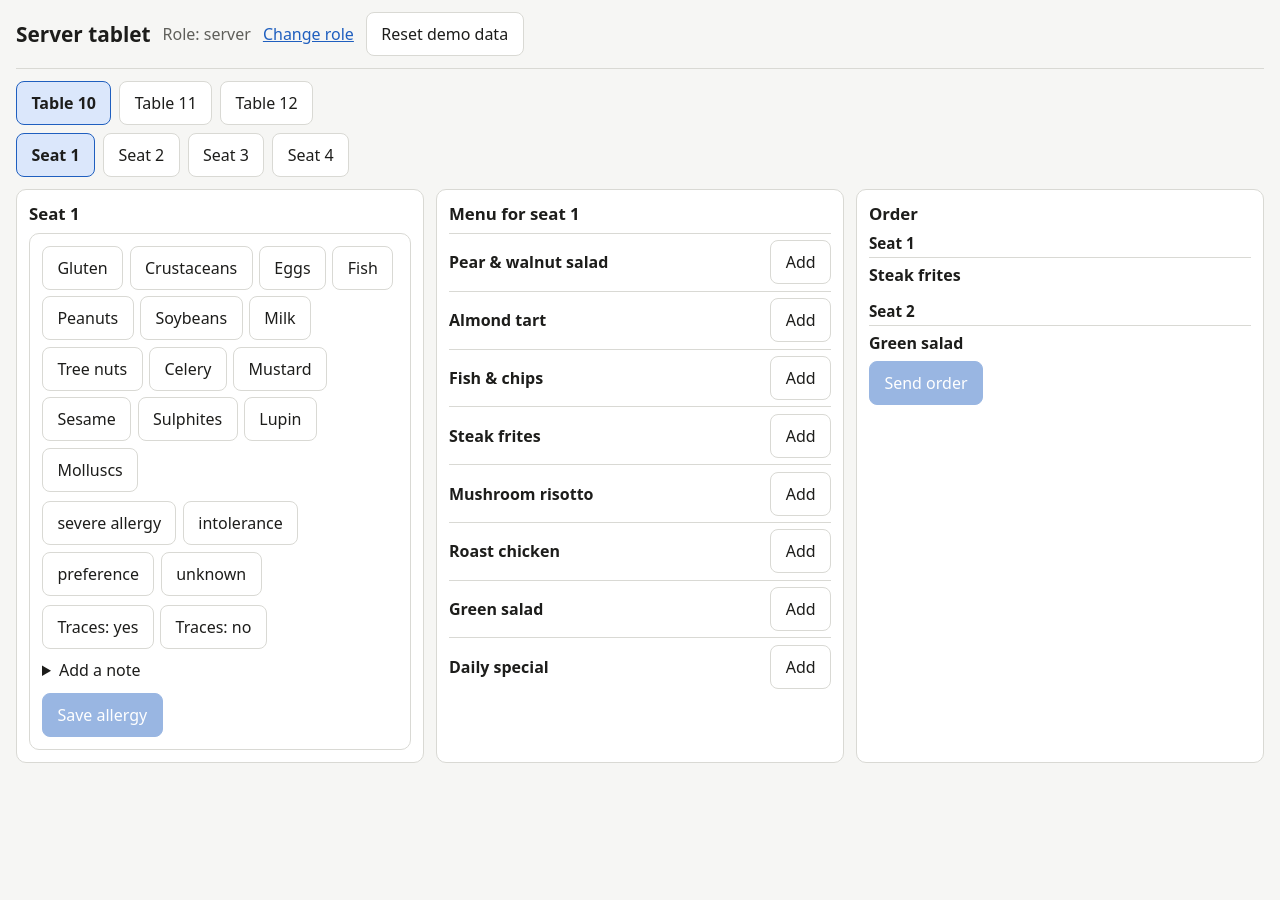
Scenario: US1 allergy panel › REQ-01: saving with an empty note works (scenario 2) and clears the panel
Click the button "Table 12" at (267,103), box [220, 81, 313, 125]
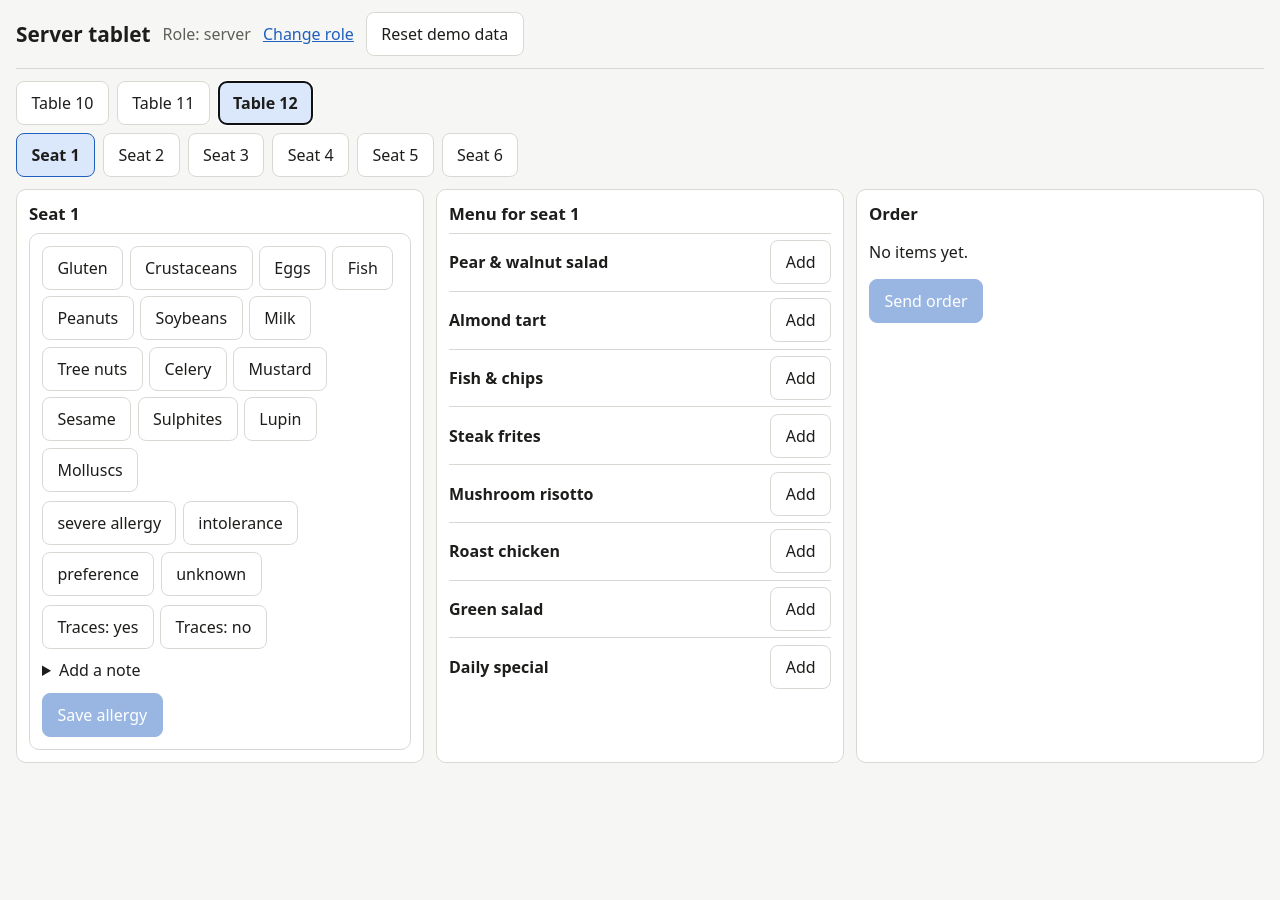
Click the button "Seat 3" at (226,155), box [188, 133, 264, 177]
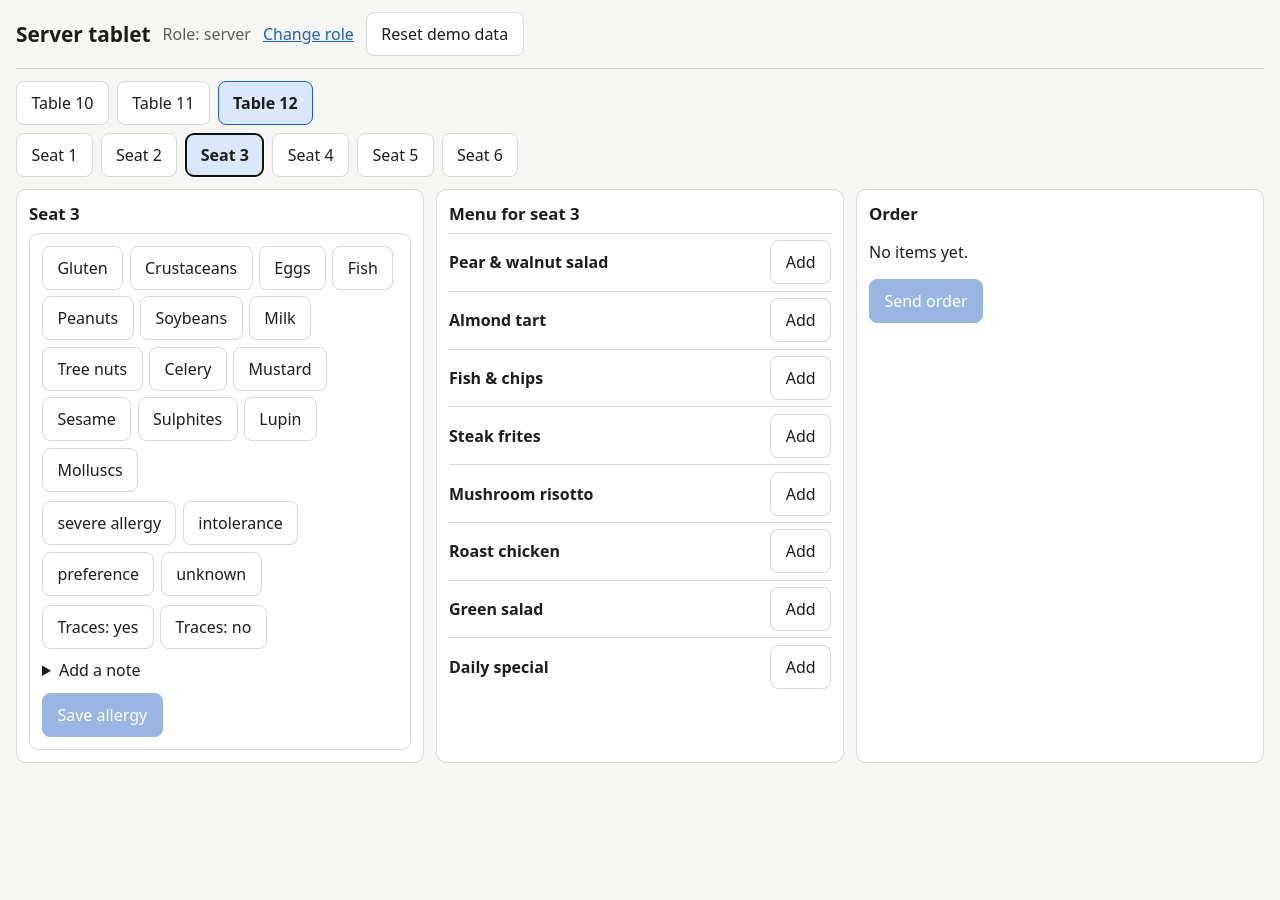
Click the button "Milk" at (280,318), box [249, 296, 311, 340]
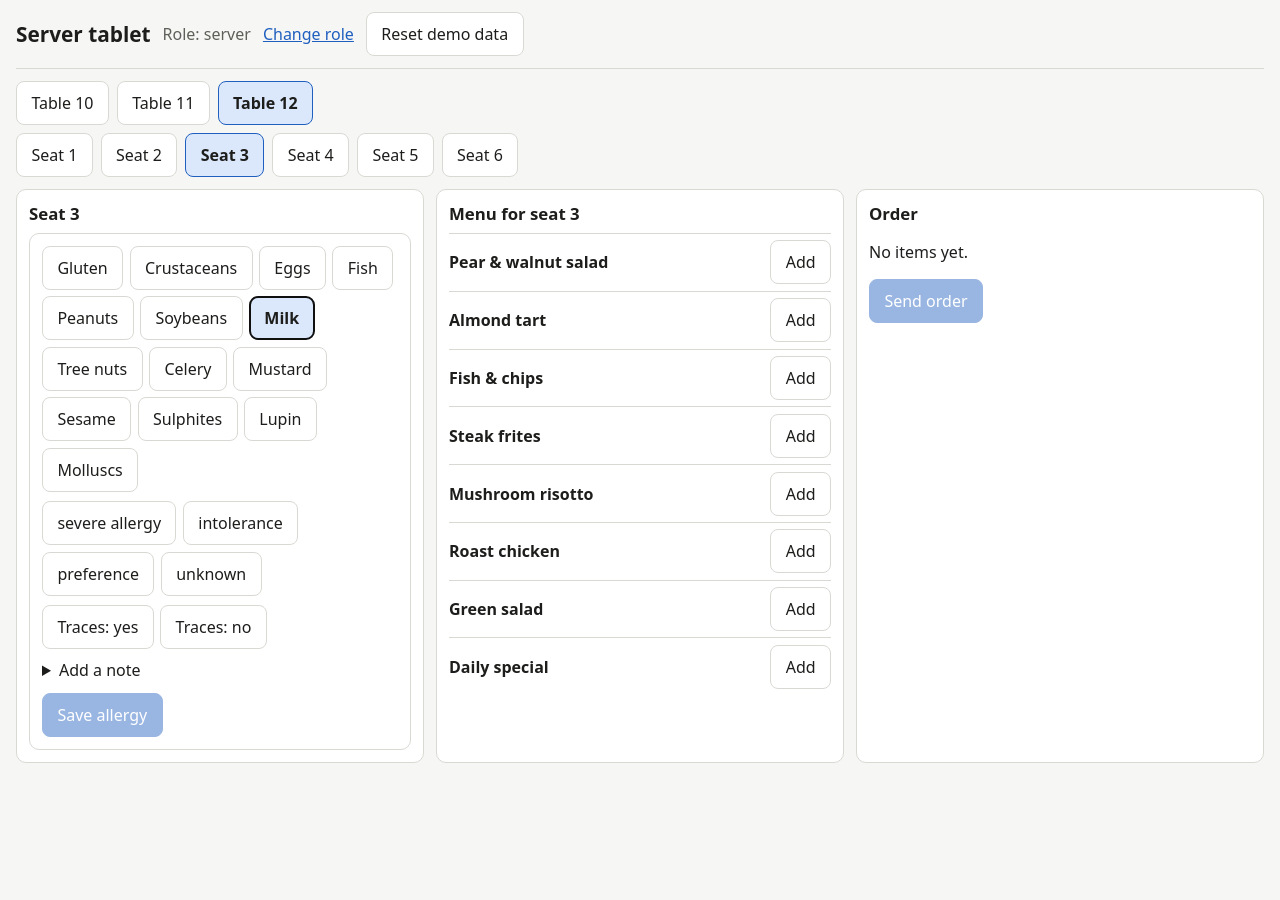
Click the button "intolerance" at (241,523), box [183, 501, 298, 545]
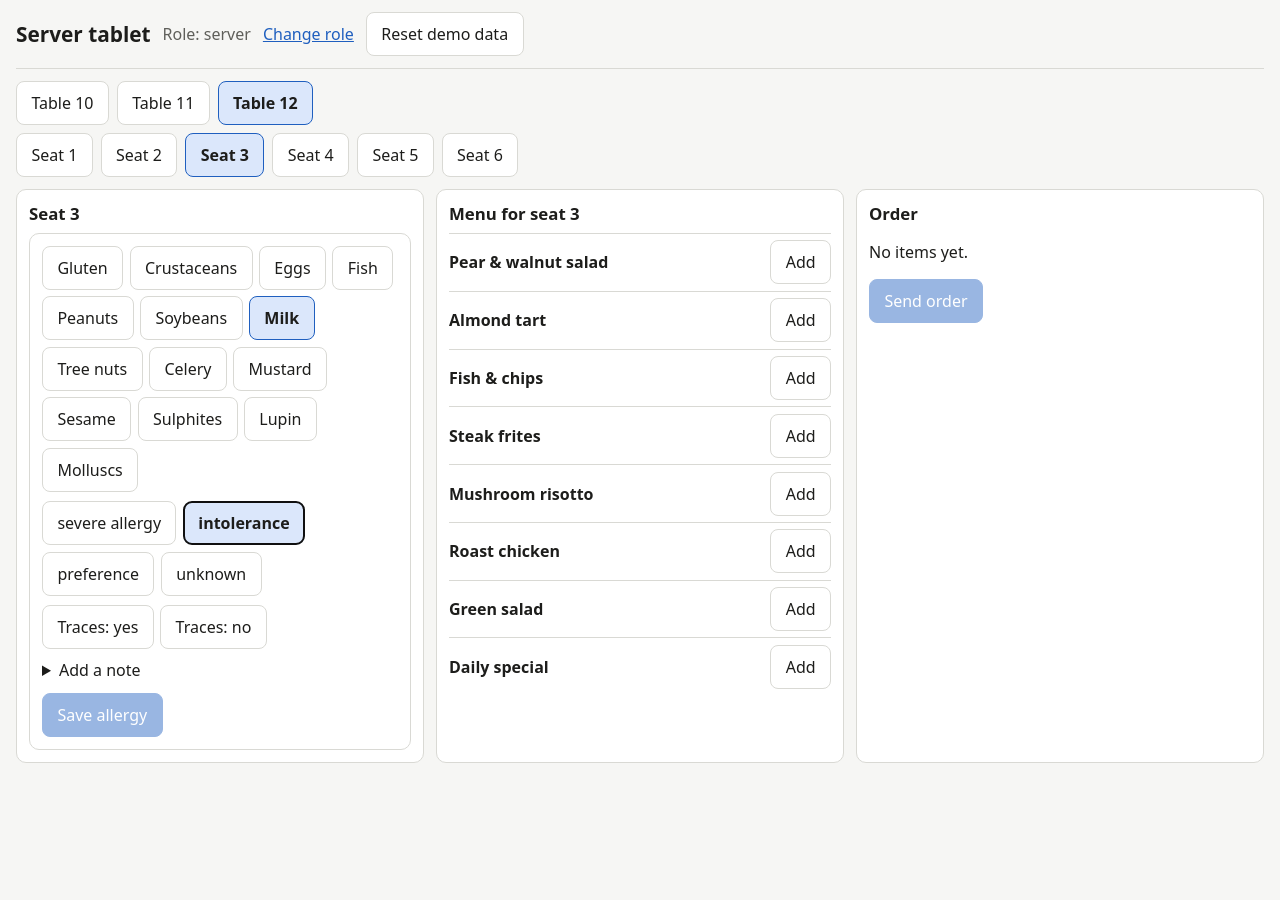
Click the button "Traces: no" at (213,627), box [160, 605, 267, 649]
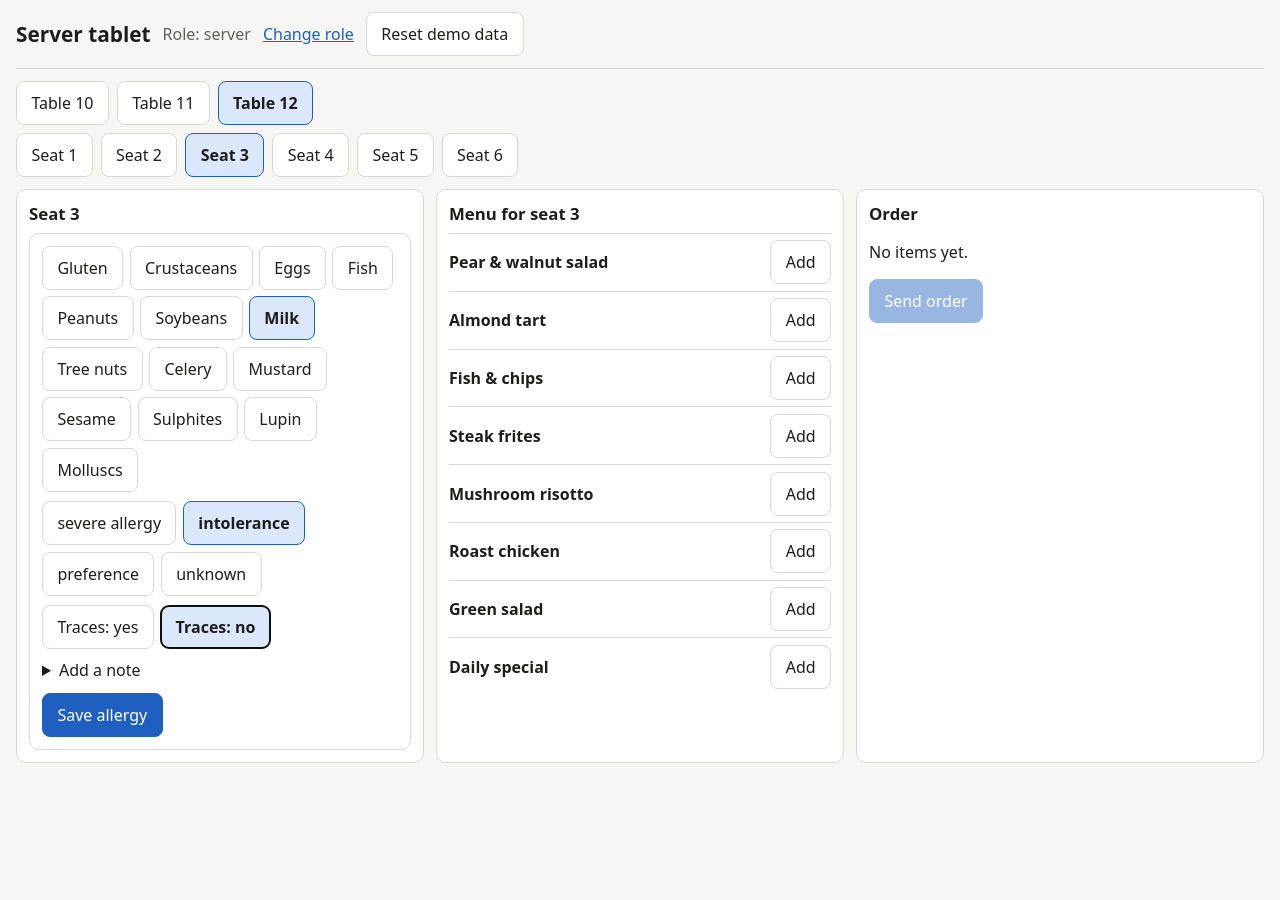
Click the button "Save allergy" at (102,715), box [42, 693, 163, 737]
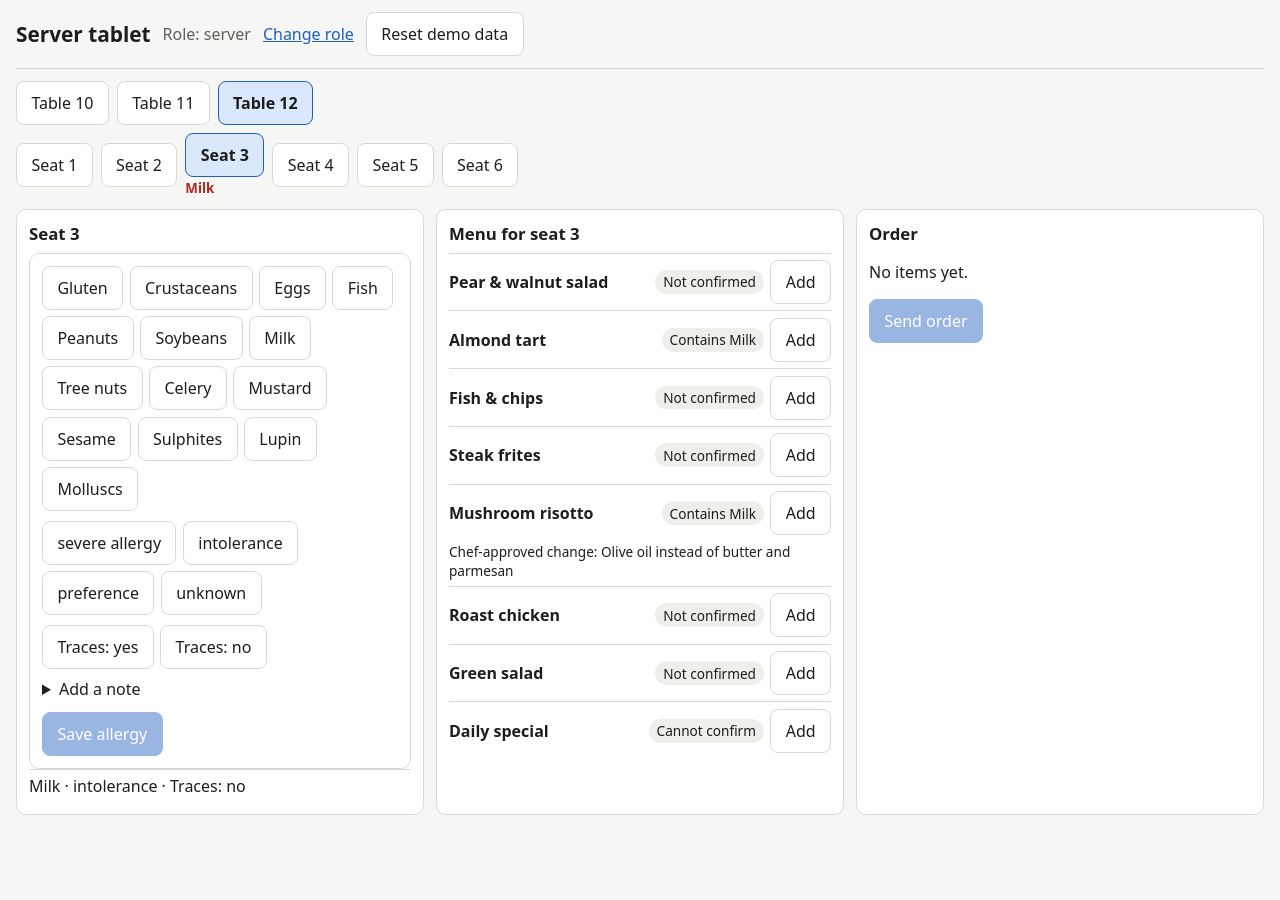
Check: the button "Save allergy" is disabled, box [42, 712, 163, 756]
